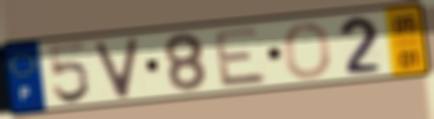2: (336, 14, 389, 79)
5: (47, 39, 94, 106)
8: (162, 31, 208, 94)
E: (211, 25, 270, 89)
O: (282, 21, 334, 81)
V: (91, 35, 142, 101)
